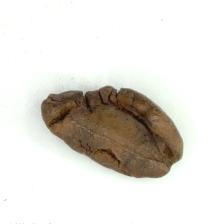NG: (43, 86, 167, 166)
